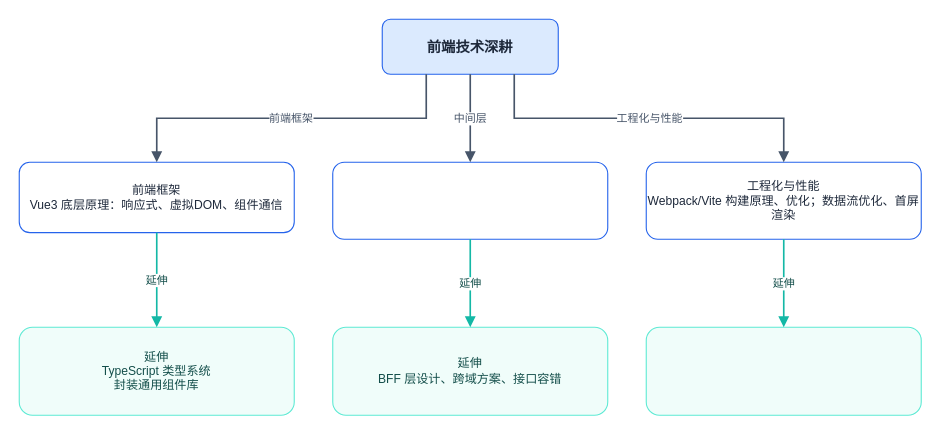
Some shapes in this 941 by 435 pixel diagram are drawn without their labels. Here are the shapes that lost their labels. From the top down, the centre of each, then its label:
At pixel 470 200: "服务端与中间层 Node.js + Egg.js/Express：异步原理、中间件设计、接口聚合".
At pixel 783 370: "延伸 多端适配（Taro/uniapp/flutter） 缓存策略".
